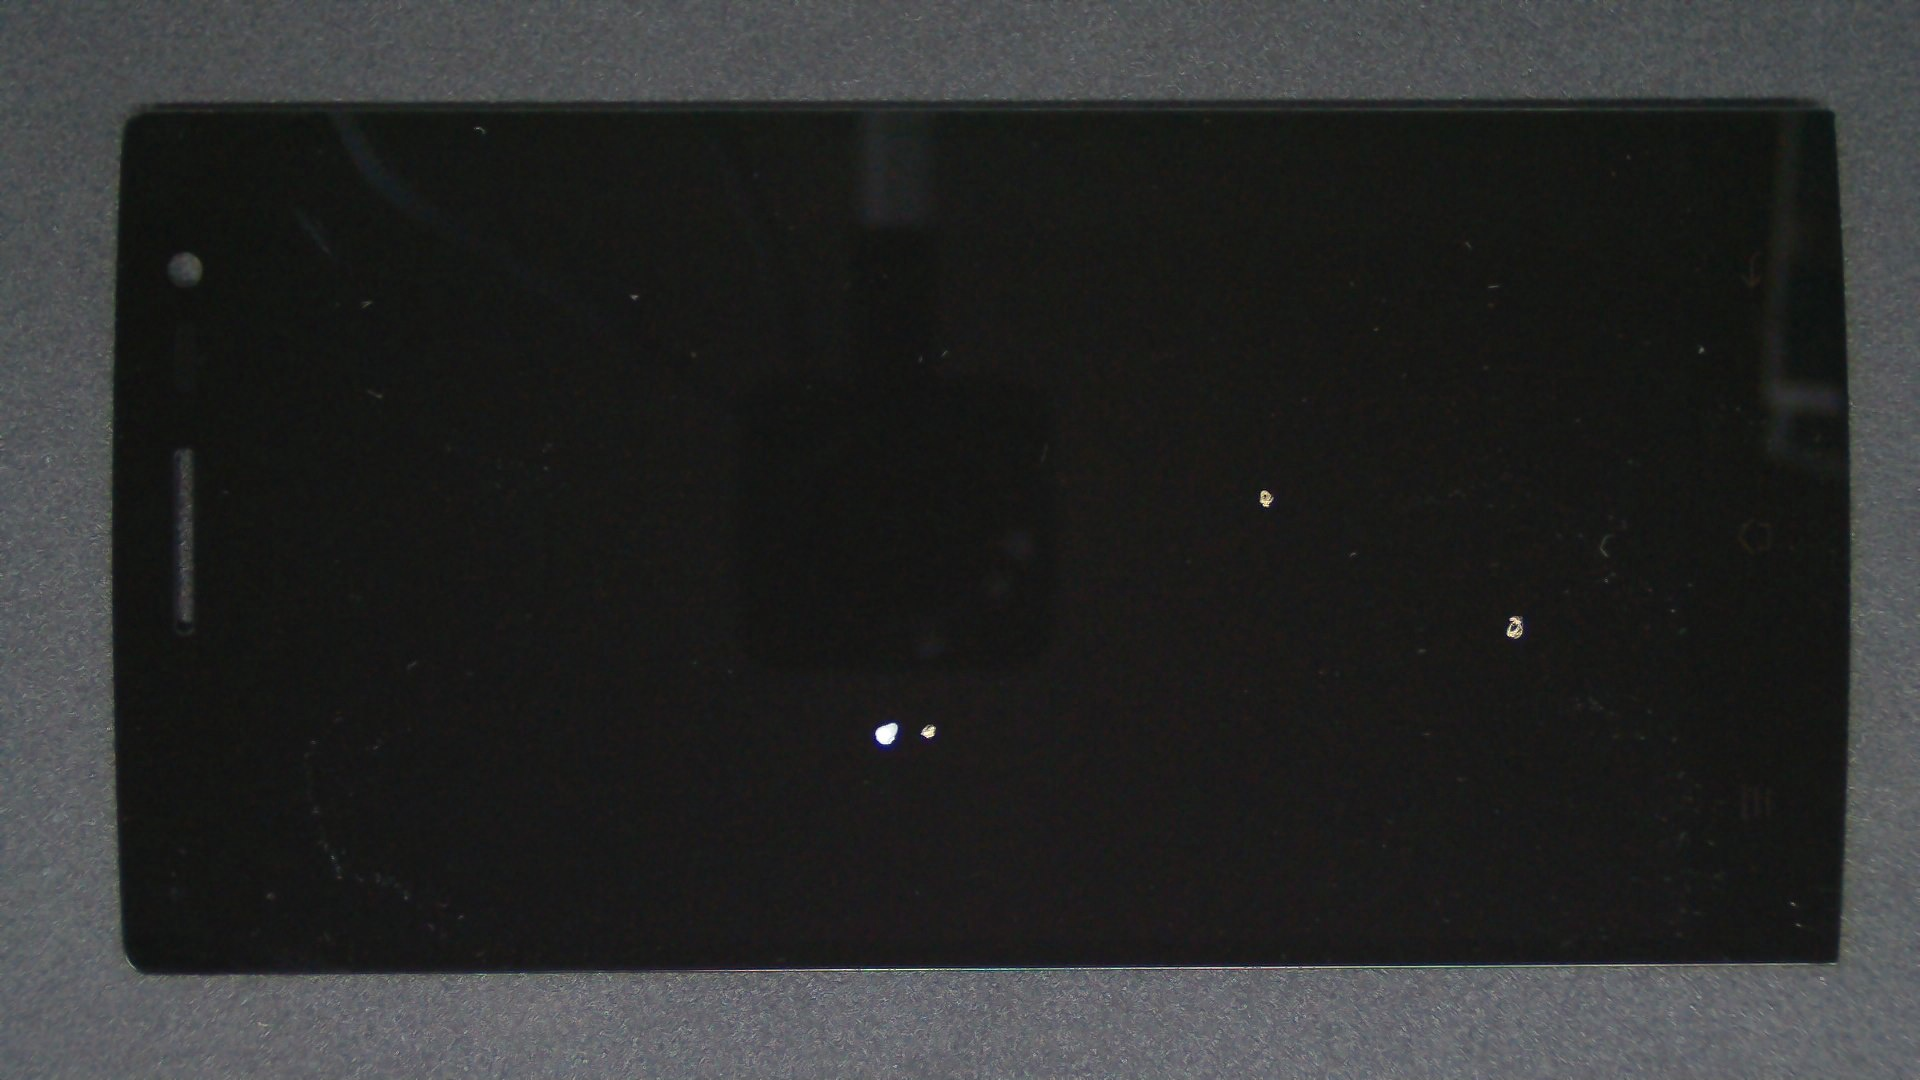oil: (757, 306, 1920, 922), (465, 360, 1394, 1080), (446, 360, 1335, 1080), (633, 243, 1891, 733)
